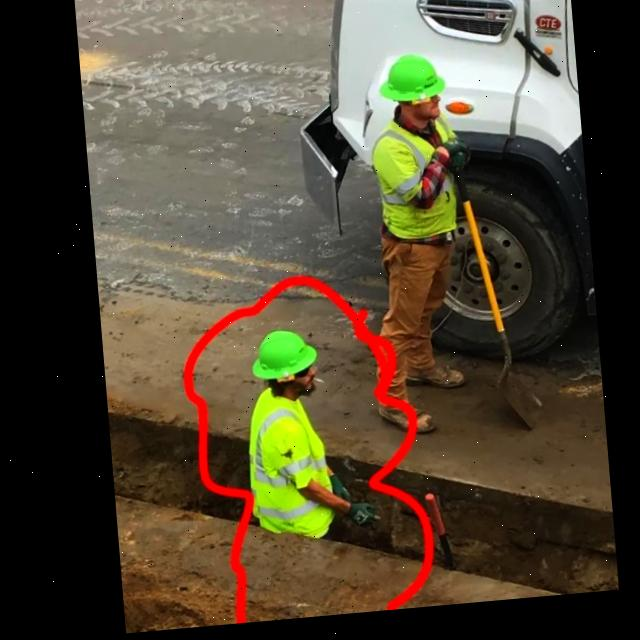cigarette: (305, 383, 317, 389)
